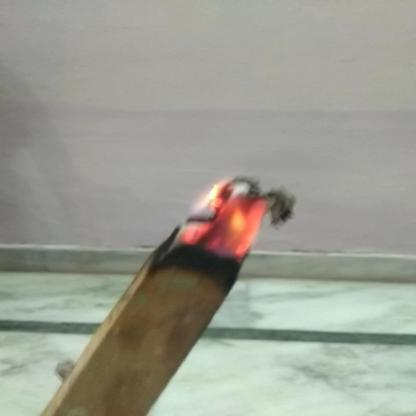fire: (181, 175, 268, 257)
